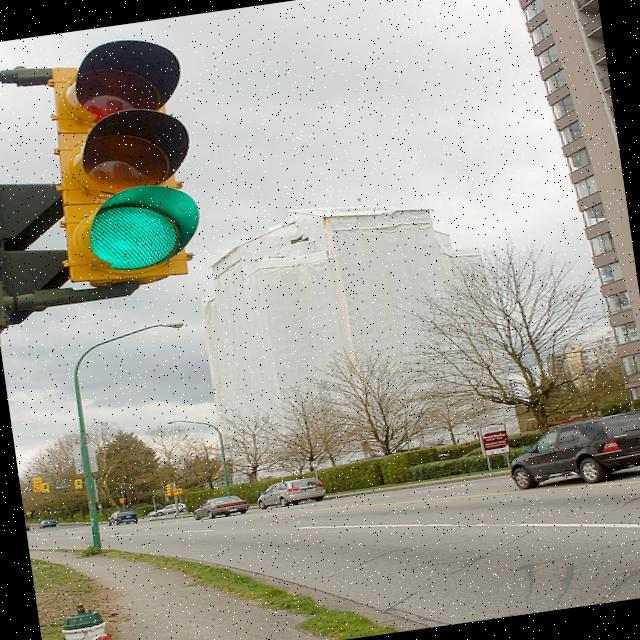fire_hydrant: (55, 596, 131, 640)
